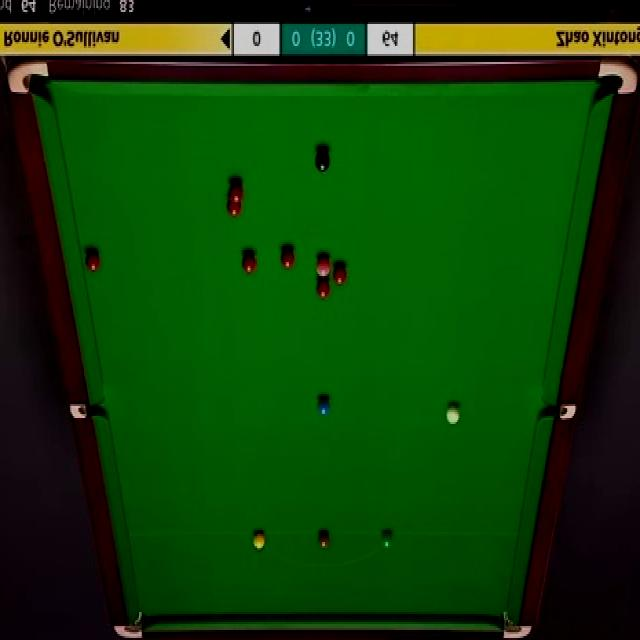black-ball: (314, 149, 330, 173)
blue-ball: (316, 398, 331, 415)
brown-ball: (318, 531, 329, 549)
green-ball: (380, 530, 395, 552)
pink-ball: (317, 256, 332, 276)
red-ball: (241, 252, 258, 273), (331, 264, 347, 285), (280, 247, 295, 269), (85, 251, 100, 273), (316, 279, 330, 299), (227, 198, 241, 218), (230, 183, 243, 202)
white-ball: (446, 403, 461, 426)
yellow-ball: (253, 530, 265, 550)
